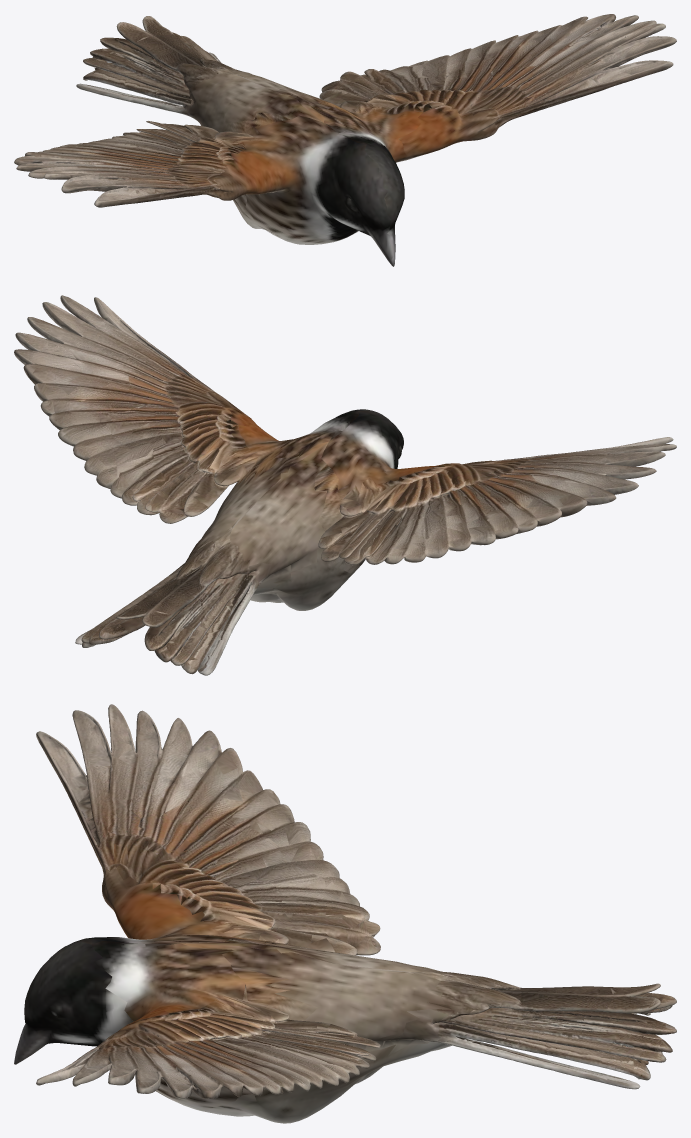
Rendered from Emberiza_schoeniclus.glb.
The picture shows the model from 3 angles, top to bottom: view 1: azimuth 30°, elevation 25°; view 2: azimuth 150°, elevation 25°; view 3: azimuth 270°, elevation 25°; orthographic projection. The views are drawn at different scales.
Visible parts, largest first — view 1: orient; view 2: orient; view 3: orient.
Boxes of the visible parts, x1,y1,x2,y2 form: orient: (14, 14, 676, 266); orient: (14, 295, 676, 675); orient: (14, 704, 676, 1123).
Size of the model in its own units: 0.5 by 0.1331 by 0.3681.
1 material, 1 textured.
